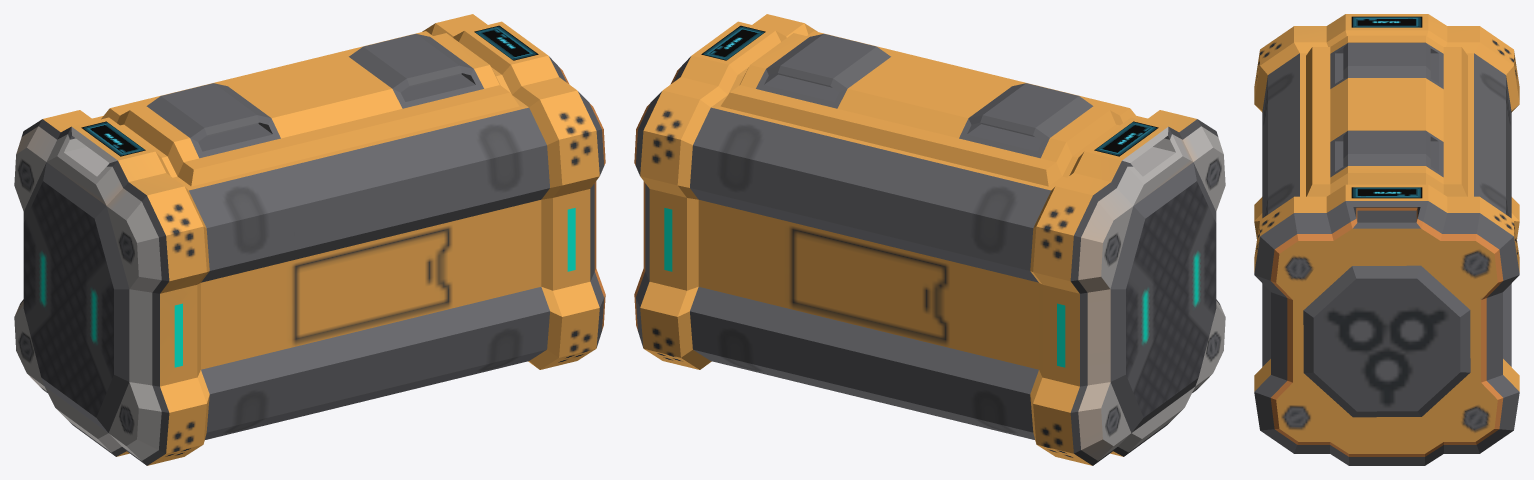
Rendered from SM_Prop_Crate_06.fbx.
The picture shows the model from 3 angles, left to right: view 1: azimuth 30°, elevation 25°; view 2: azimuth 150°, elevation 25°; view 3: azimuth 270°, elevation 25°; orthographic projection. The views are drawn at different scales.
Parts seen in each view (by area): view 1: SM_Prop_Crate_06; view 2: SM_Prop_Crate_06; view 3: SM_Prop_Crate_06.
Part boxes in pixels (x1=…): SM_Prop_Crate_06: x1=14, y1=14, x2=605, y2=465; SM_Prop_Crate_06: x1=634, y1=14, x2=1225, y2=465; SM_Prop_Crate_06: x1=1254, y1=14, x2=1519, y2=465.
Bounding box in the file's own units: 112 × 68.41 × 60.08.
